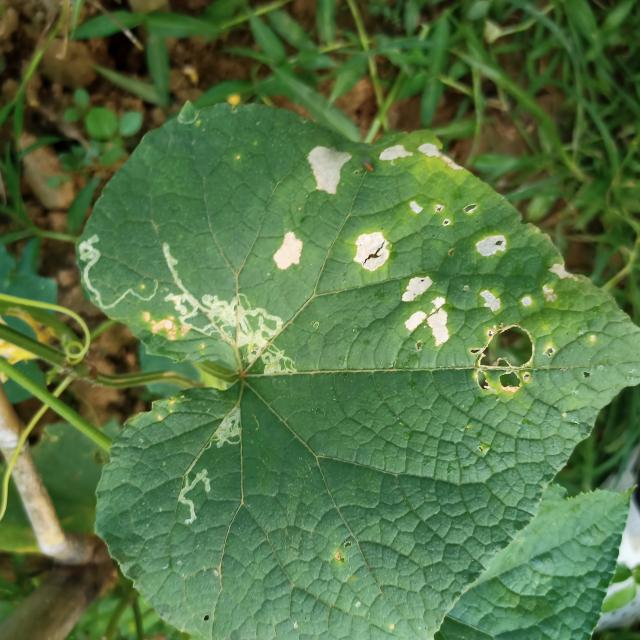disease_cucumber: (266, 134, 528, 278), (401, 230, 573, 389)
